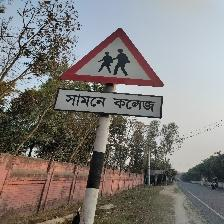College-in-front: (58, 38, 199, 124)
